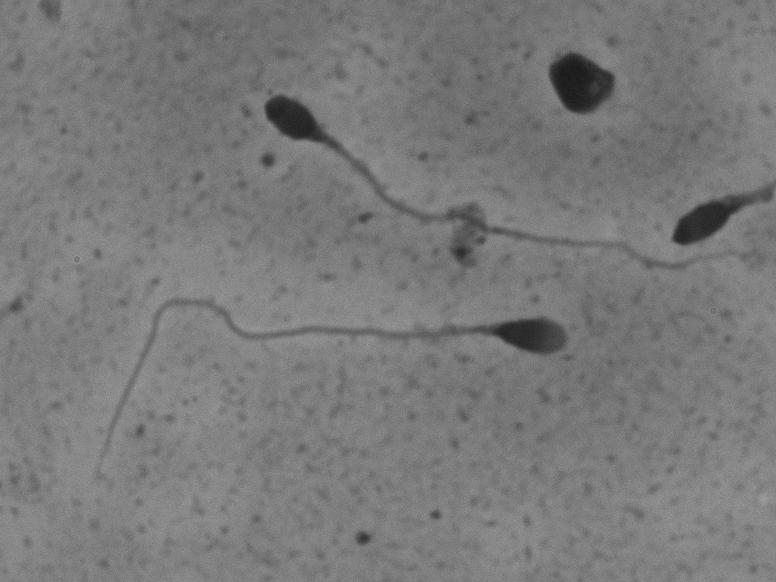Abnormal: (231, 62, 738, 286)
Normal: (81, 263, 591, 485)
